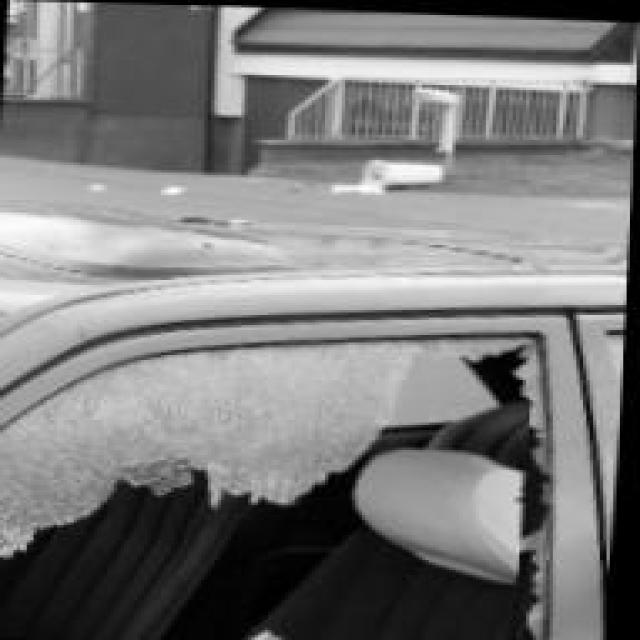Door: (0, 250, 630, 640)
